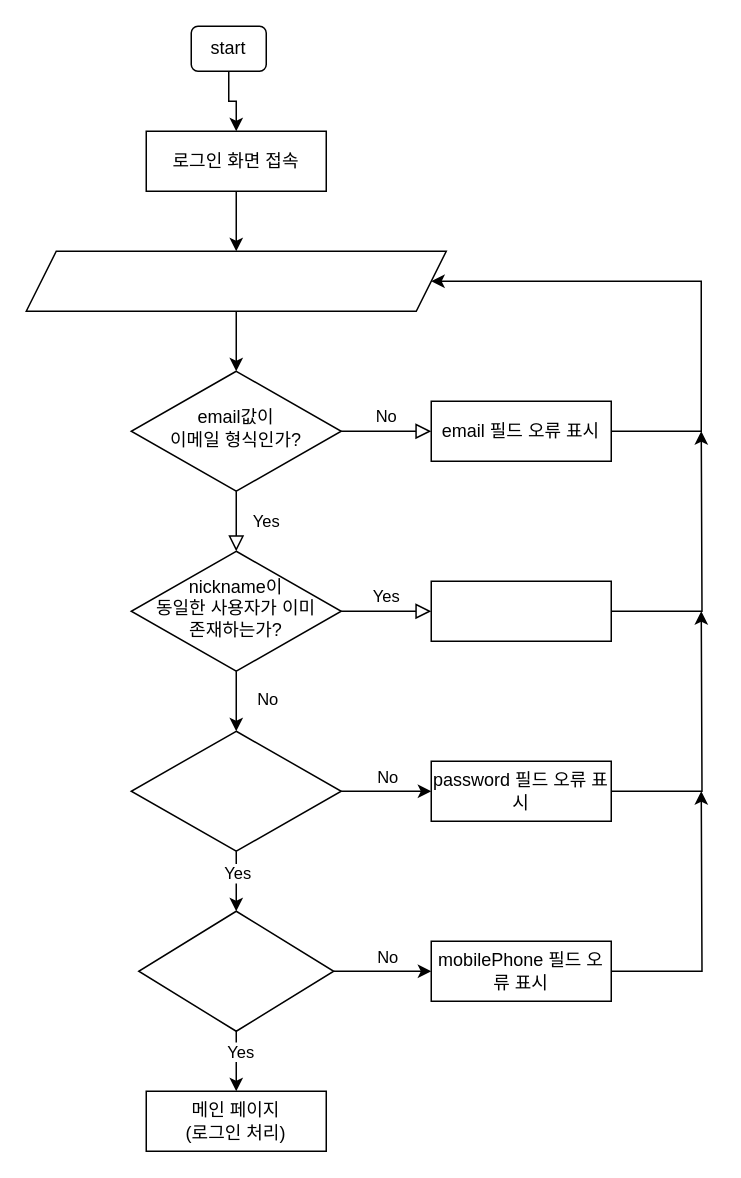
Some shapes in this 741 by 1178 pixel diagram are drawn without their labels. The shapes that lost their labels are listed below. From the top down, each one's centre as x and y in pixels, then its label:
(235,280): 회원정보 입력 후 요청 (email, password, nickname, mobilePhone)
(520,610): nickname 필드 오류 표시
(235,790): password가 4자리 이상인가?
(235,970): mobilePhone이 xxx-xxxx-xxxx 형식인가?
